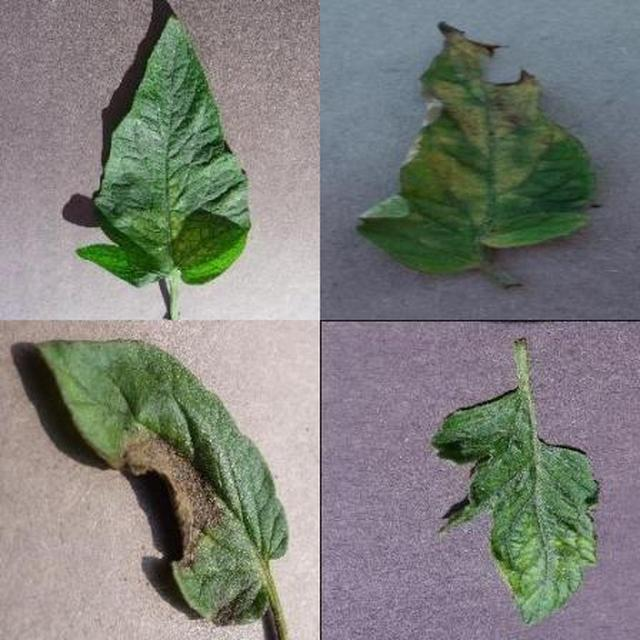Spider Mites Leaf: (229, 213, 640, 640)
